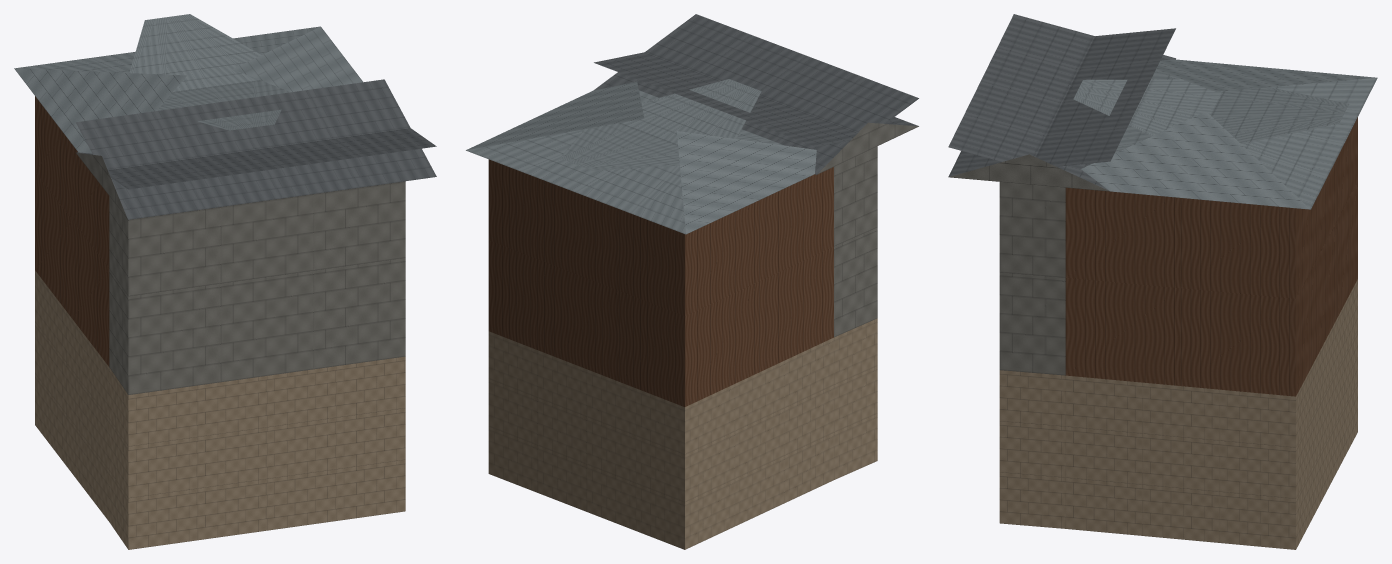
The model's file is bld_c9_8_500.gltf.
3 renders of one model, left to right at view 1: azimuth 30°, elevation 25°; view 2: azimuth 150°, elevation 25°; view 3: azimuth 270°, elevation 25°, orthographic. The views are drawn at different scales.
Visible parts, largest first — view 1: bld_c9_8_500; view 2: bld_c9_8_500; view 3: bld_c9_8_500.
Boxes of the visible parts, box(x1,y1,x2,y2) form: bld_c9_8_500: box(14, 14, 436, 549); bld_c9_8_500: box(466, 14, 918, 549); bld_c9_8_500: box(948, 14, 1377, 549).
Size of the model in its own units: 11.81 by 12.6 by 12.95.
6 materials, 6 textured.
